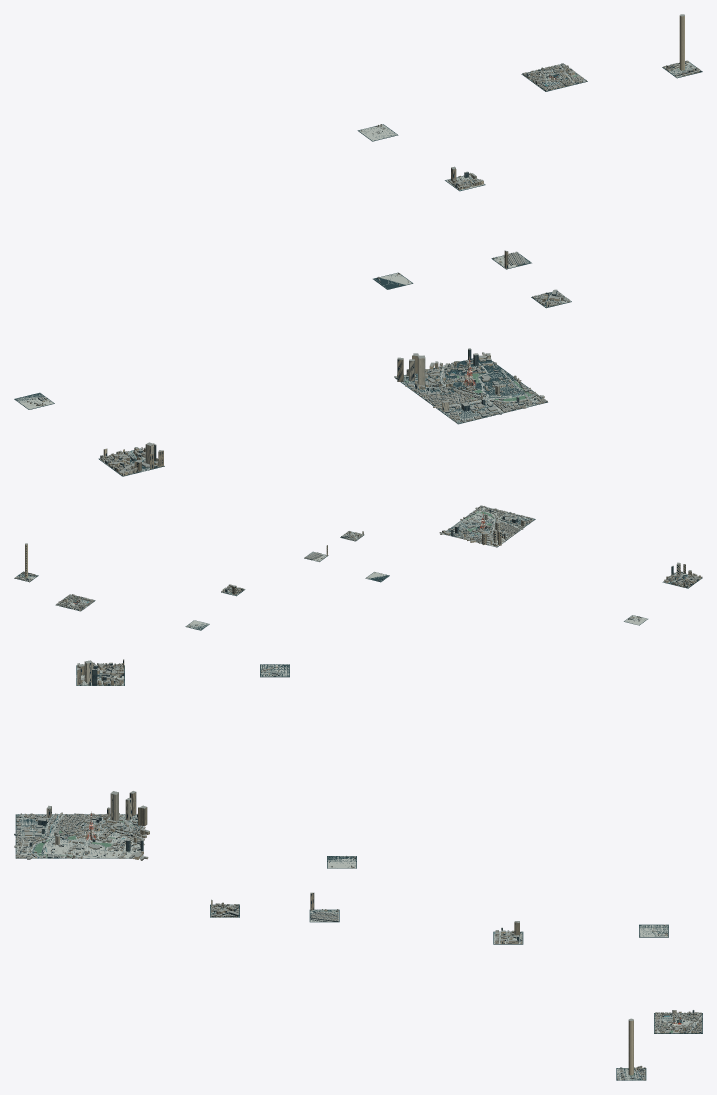
Rendered from tokyo.glb.
3 renders of one model, top to bottom at view 1: azimuth 30°, elevation 25°; view 2: azimuth 150°, elevation 25°; view 3: azimuth 270°, elevation 25°, orthographic. The views are drawn at different scales.
Size of the model in its own units: 10415 by 636 by 7284.
20 materials, 4 textured.
